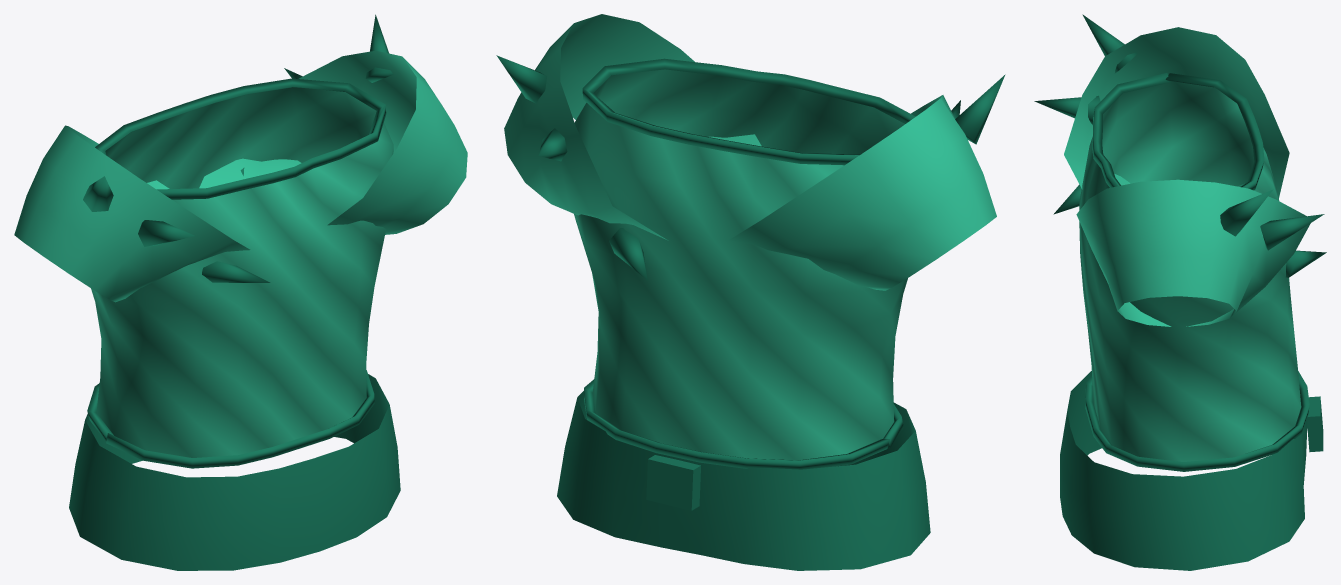
The model's file is mythril_chainmail.glb.
3 views of the same model, side by side, from view 1: azimuth 30°, elevation 25°; view 2: azimuth 150°, elevation 25°; view 3: azimuth 270°, elevation 25° (orthographic). The views are drawn at different scales.
Parts seen in each view (by area): view 1: mythril_chainmail_chest; view 2: mythril_chainmail_chest; view 3: mythril_chainmail_chest.
Part boxes in pixels (x1,y1,x2,y2): mythril_chainmail_chest: (14,14,467,570); mythril_chainmail_chest: (496,14,1005,570); mythril_chainmail_chest: (1034,14,1326,570).
Bounding box in the file's own units: 0.6233 × 0.5752 × 0.3767.
